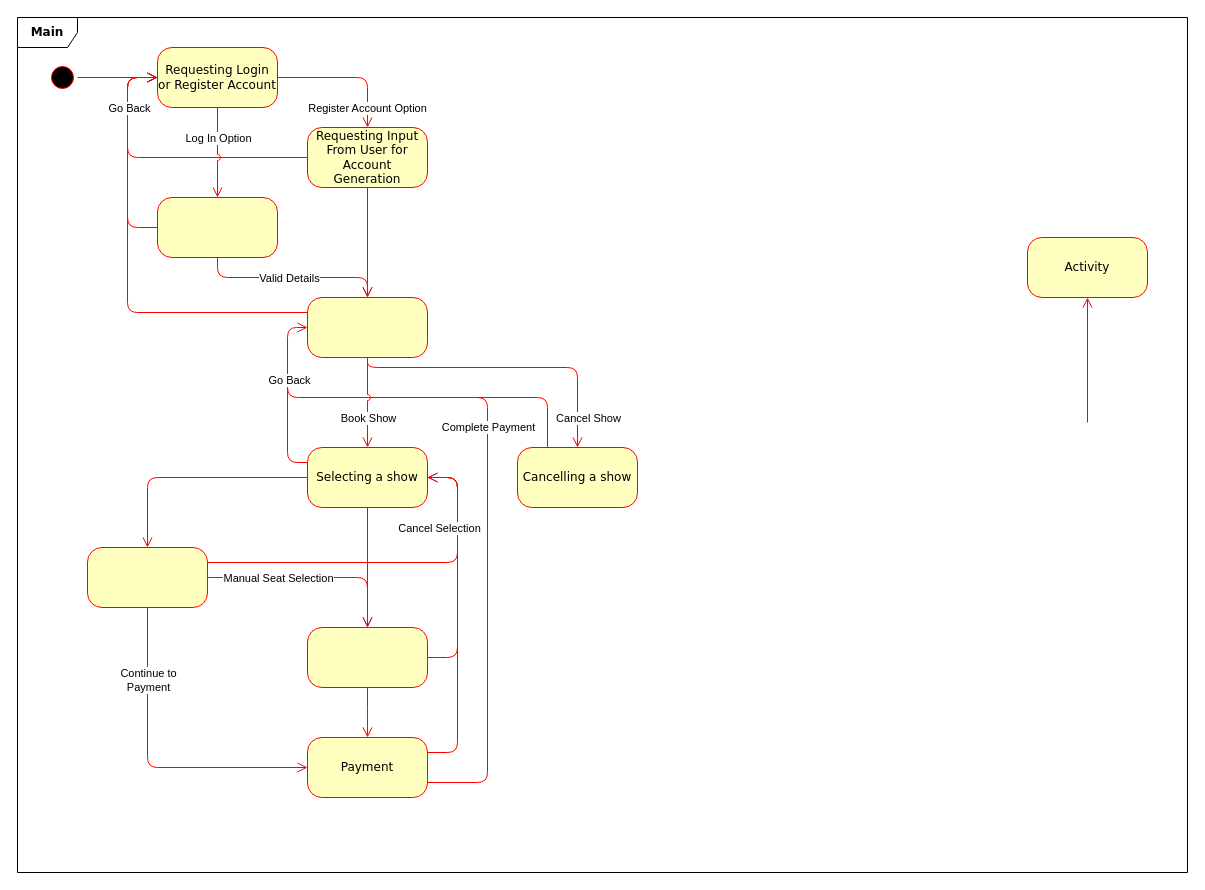
The diagram is 1205 pixels wide and 890 high, and some of its shapes have lost their labels. Each missing label, with the centre of its shape:
"Automatic Seat Selection Interface" belongs at [147,577].
"Interactive Seat Selection Interface" belongs at [367,657].
"Logged In. Presenting options based on account type" belongs at [367,327].
"Requesting Login Details" belongs at [217,227].
